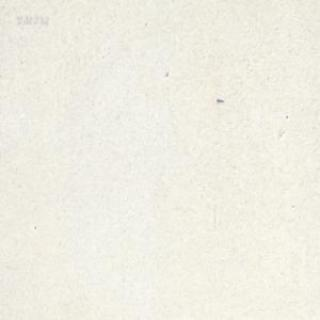Nailtrack_idkeyframe: (215, 97, 222, 103)
